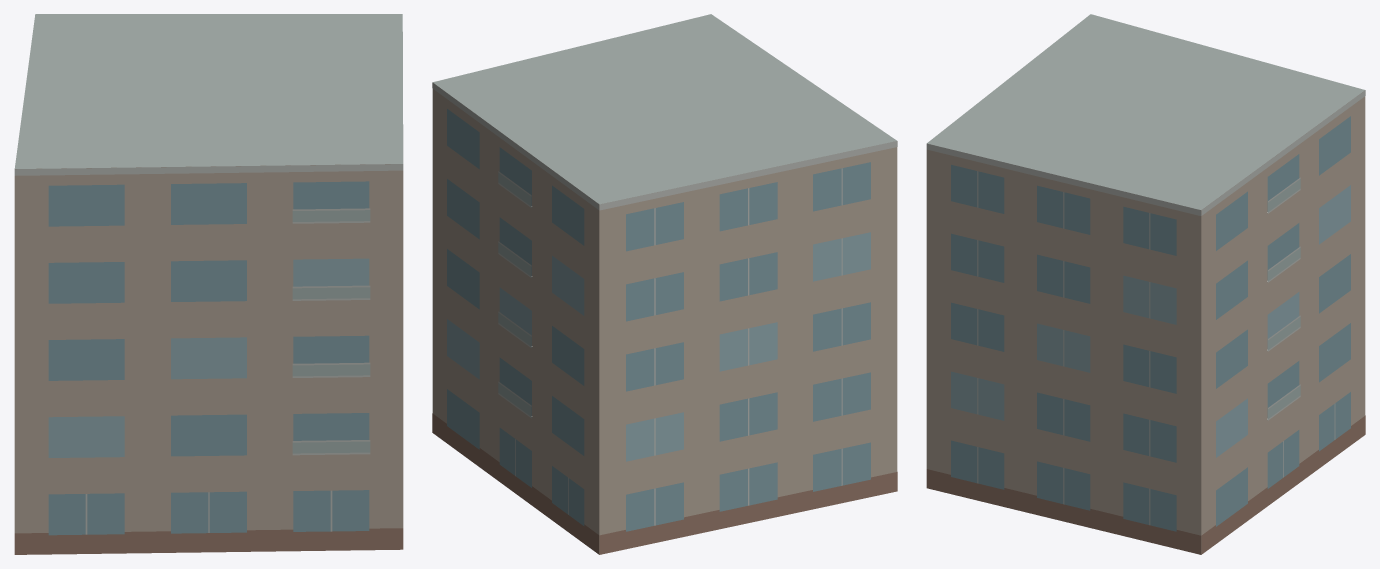
File: survey-upis-32964221.glb
3 renders of one model, left to right at view 1: azimuth 30°, elevation 25°; view 2: azimuth 150°, elevation 25°; view 3: azimuth 270°, elevation 25°, orthographic. The views are drawn at different scales.
Visible parts, largest first — view 1: survey-upis-32964221.tmp; view 2: survey-upis-32964221.tmp; view 3: survey-upis-32964221.tmp.
Boxes of the visible parts, x1,y1,x2,y2 form: survey-upis-32964221.tmp: (14, 14, 403, 554); survey-upis-32964221.tmp: (432, 14, 897, 554); survey-upis-32964221.tmp: (926, 14, 1365, 554).
Size of the model in its own units: 17.04 by 13.95 by 16.1.
